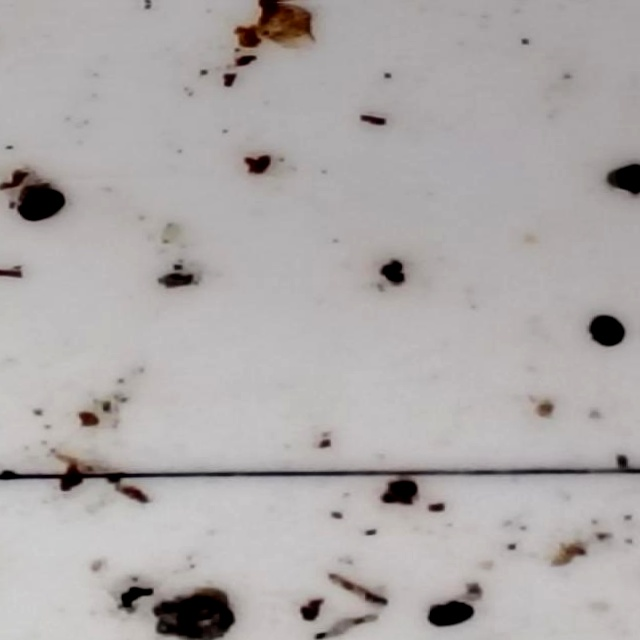varroa: (13, 185, 62, 226), (586, 314, 627, 352), (425, 598, 476, 628), (603, 163, 635, 201)
